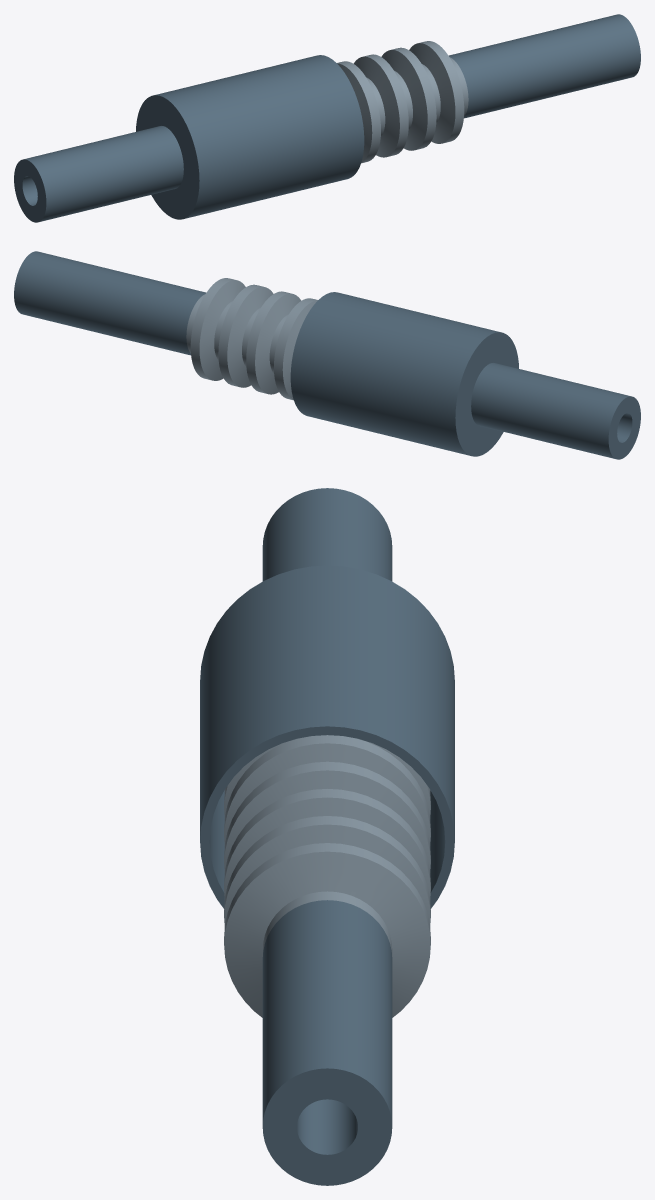
The model's file is silf-dn20-L285-D26_9-k-o40.glb.
3 views of the same model, one above another, from view 1: azimuth 30°, elevation 25°; view 2: azimuth 150°, elevation 25°; view 3: azimuth 270°, elevation 25° (orthographic). The views are drawn at different scales.
Visible parts, largest first — view 1: osnovanie_kozhuh_1, patrubok_2, patrubok_1, prokladka_silfon_1; view 2: osnovanie_kozhuh_1, patrubok_2, patrubok_1, prokladka_silfon_1; view 3: osnovanie_kozhuh_1, prokladka_silfon_1, patrubok_2, patrubok_1.
Part boxes in pixels (x1=…): osnovanie_kozhuh_1: x1=136, y1=55, x2=364, y2=219; patrubok_2: x1=449, y1=14, x2=640, y2=118; patrubok_1: x1=14, y1=126, x2=183, y2=222; prokladka_silfon_1: x1=337, y1=41, x2=468, y2=163; osnovanie_kozhuh_1: x1=290, y1=292, x2=518, y2=456; patrubok_2: x1=14, y1=251, x2=205, y2=355; patrubok_1: x1=471, y1=363, x2=640, y2=459; prokladka_silfon_1: x1=186, y1=278, x2=317, y2=400; osnovanie_kozhuh_1: x1=200, y1=565, x2=454, y2=908; prokladka_silfon_1: x1=224, y1=735, x2=430, y2=1017; patrubok_2: x1=262, y1=900, x2=392, y2=1185; patrubok_1: x1=262, y1=488, x2=392, y2=581.
Size of the model in its own units: 285 by 52.9 by 52.9.
